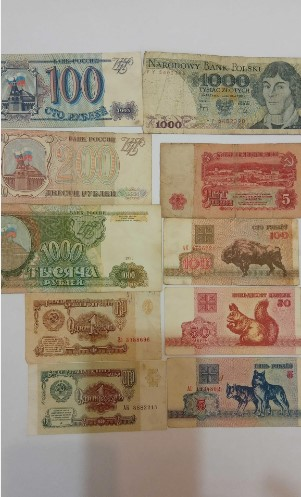cash: (1, 204, 162, 293), (144, 50, 301, 135), (1, 130, 152, 204), (1, 52, 143, 128), (160, 143, 301, 218), (28, 362, 167, 435), (25, 293, 162, 364), (167, 357, 301, 428), (165, 217, 301, 286), (165, 287, 301, 355)
